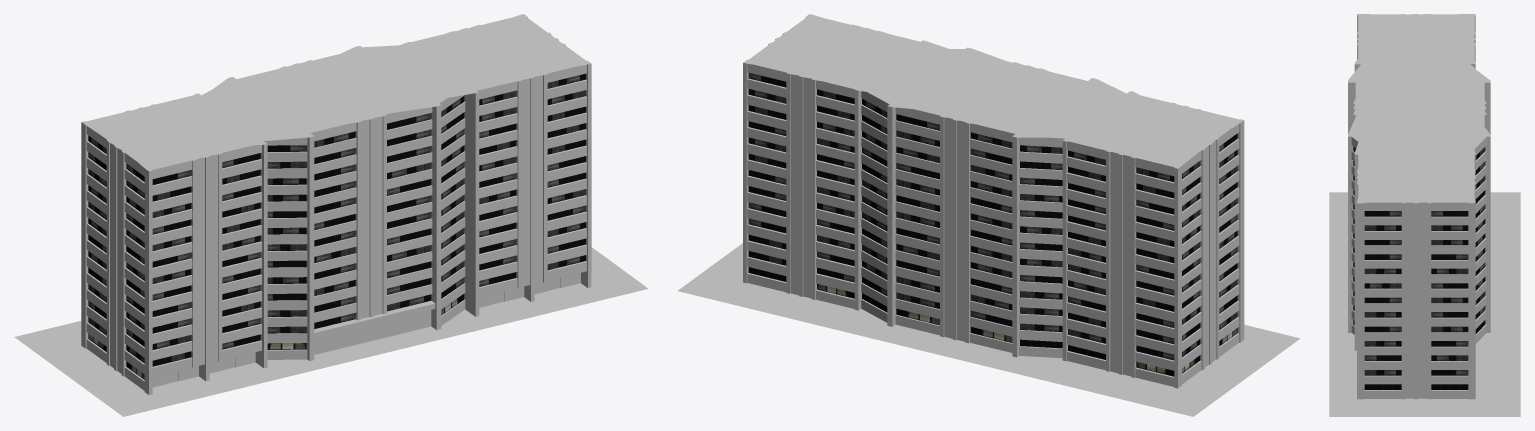
3 renders of one model, left to right at view 1: azimuth 30°, elevation 25°; view 2: azimuth 150°, elevation 25°; view 3: azimuth 270°, elevation 25°, orthographic. The views are drawn at different scales.
Parts seen in each view (by area): view 1: Building-019, BC-019; view 2: Building-019, BC-019; view 3: Building-019, BC-019.
Part boxes in pixels (x1,y1,x2,y2): Building-019: (81,14,591,395); BC-019: (14,247,648,416); Building-019: (743,14,1244,388); BC-019: (678,243,1300,416); Building-019: (1348,14,1490,399); BC-019: (1329,192,1520,416).
Size of what is drawn, in the model's own units: 100 by 40.7 by 36.
